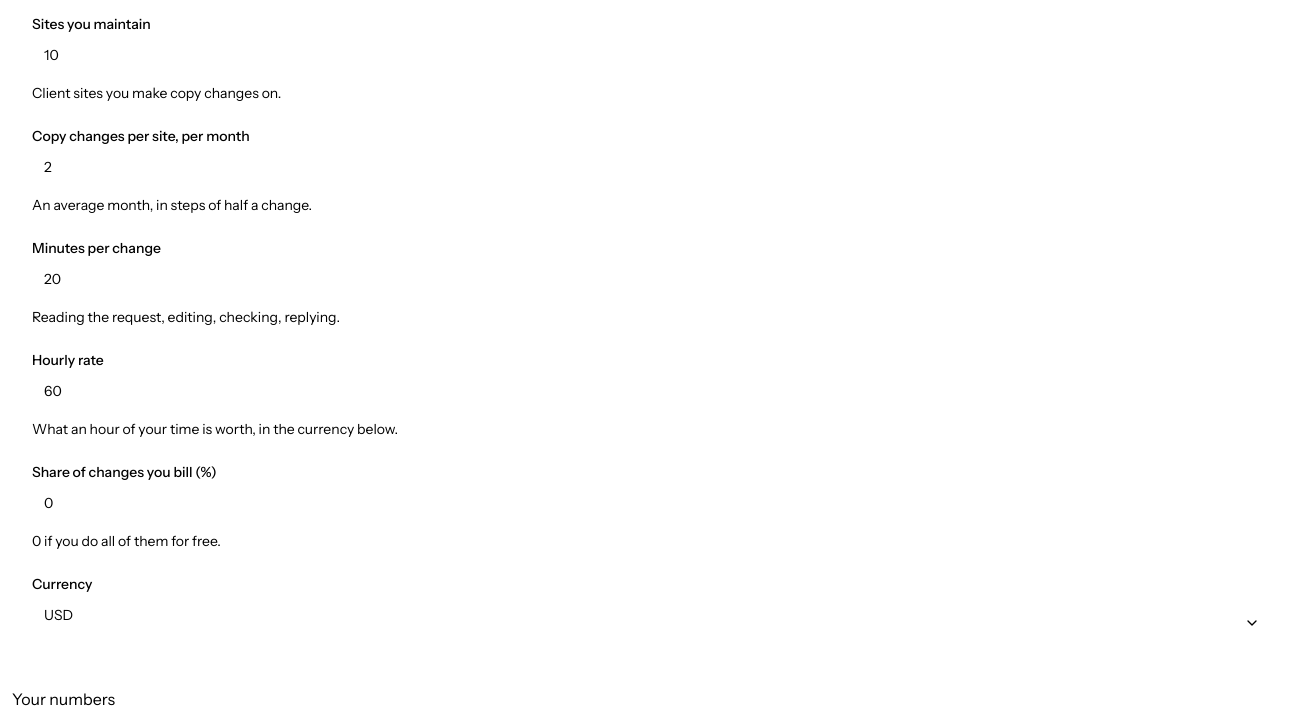
Test case: CostCalculator › shows a neutral placeholder, not a default figure, when a field is emptied
This screenshot has width=1292, height=711.
Clear the number field labelled "Hourly rate" at (652, 391), box left=32, top=371, right=1272, bottom=411
Wait 500 ms
(page scrolled)
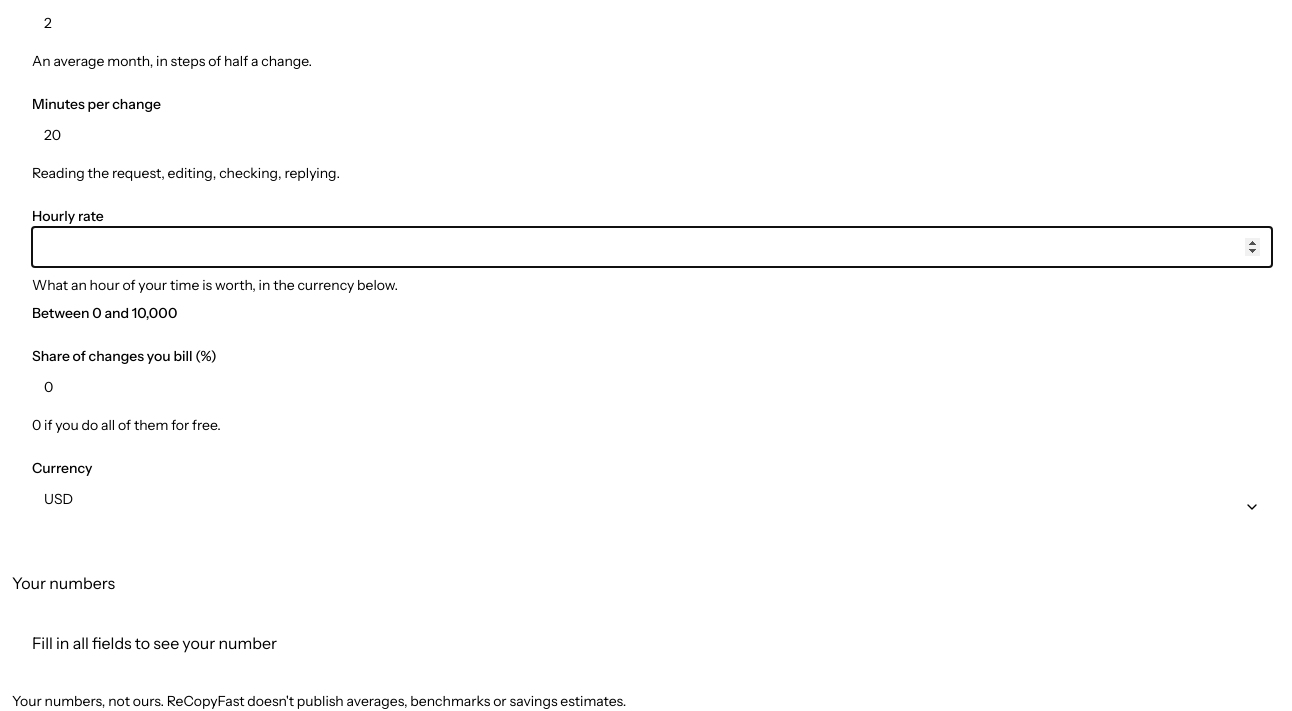
Expected: the element with test id "result-panel" does not show "$", left=32, top=633, right=277, bottom=653
Expected: the element with test id "result-panel" no longer shows "NaN", left=32, top=633, right=277, bottom=653
